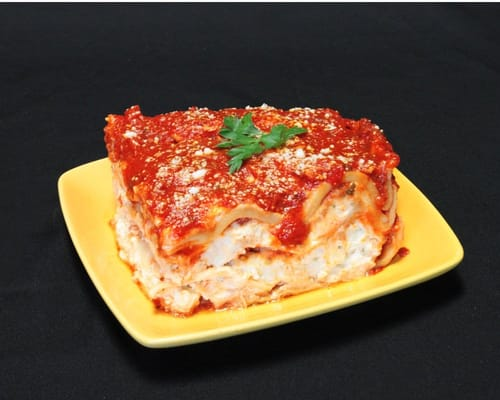sandwich: (102, 104, 414, 319)
